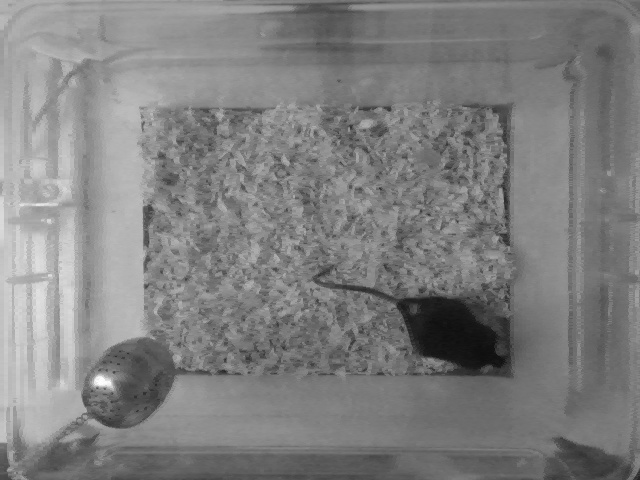mice: (309, 266, 515, 372)
